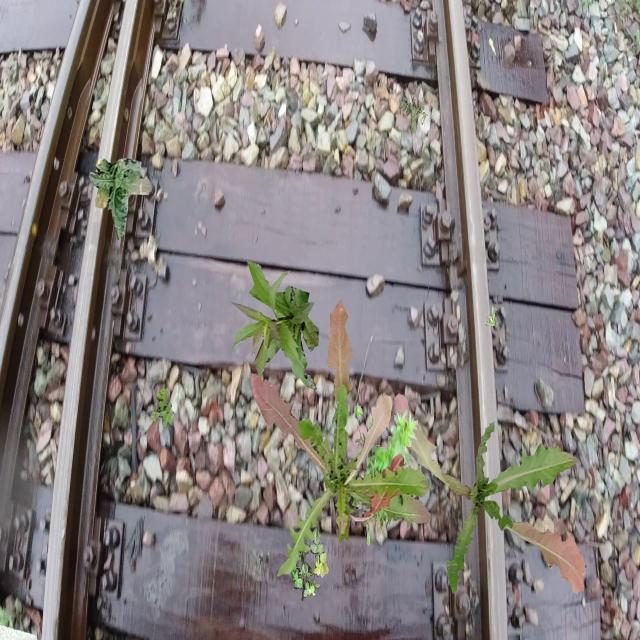Plant: (252, 299, 432, 577), (394, 393, 586, 596), (230, 260, 318, 390), (354, 402, 418, 546), (89, 158, 152, 241), (291, 527, 328, 600), (400, 93, 428, 134), (151, 388, 175, 429), (485, 306, 499, 326)
